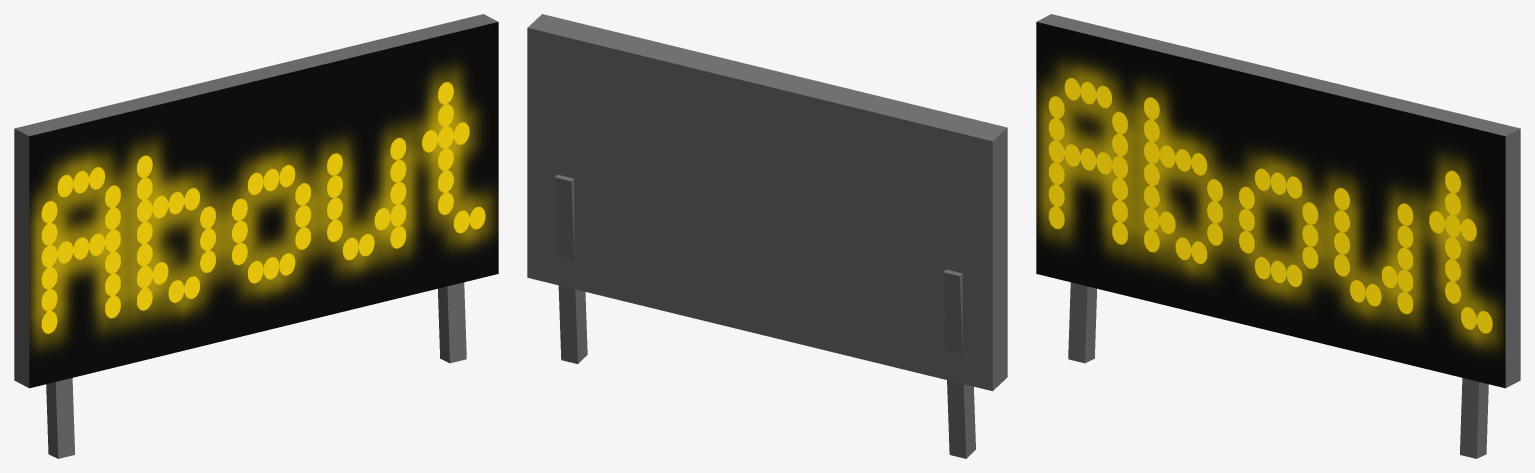
Rendered from about-button.glb.
3 views of the same model, side by side, from view 1: azimuth 30°, elevation 25°; view 2: azimuth 150°, elevation 25°; view 3: azimuth 330°, elevation 25° (orthographic).
Parts seen in each view (by area): view 1: About; view 2: About; view 3: About.
Boxes of the visible parts, bbox=[...] form: About: bbox=[14, 14, 498, 458]; About: bbox=[527, 14, 1007, 458]; About: bbox=[1036, 14, 1520, 458].
Bounding box in the file's own units: 14.48 × 9.83 × 0.9425.
Materials: 2 (2 with a texture image).
